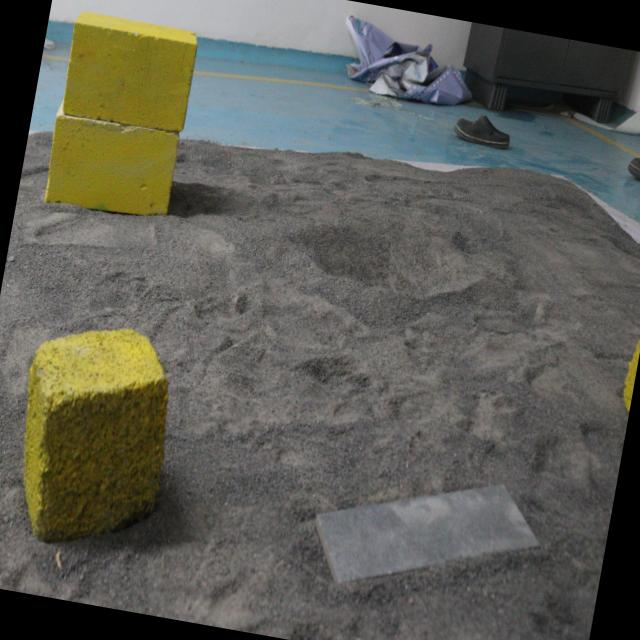box: (0, 309, 190, 562), (38, 2, 205, 234)
crater: (276, 184, 495, 314)
